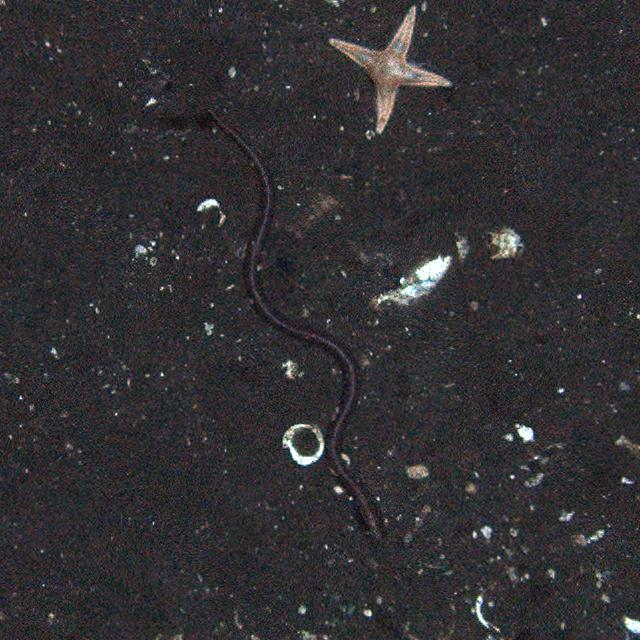eel: (205, 106, 392, 541)
